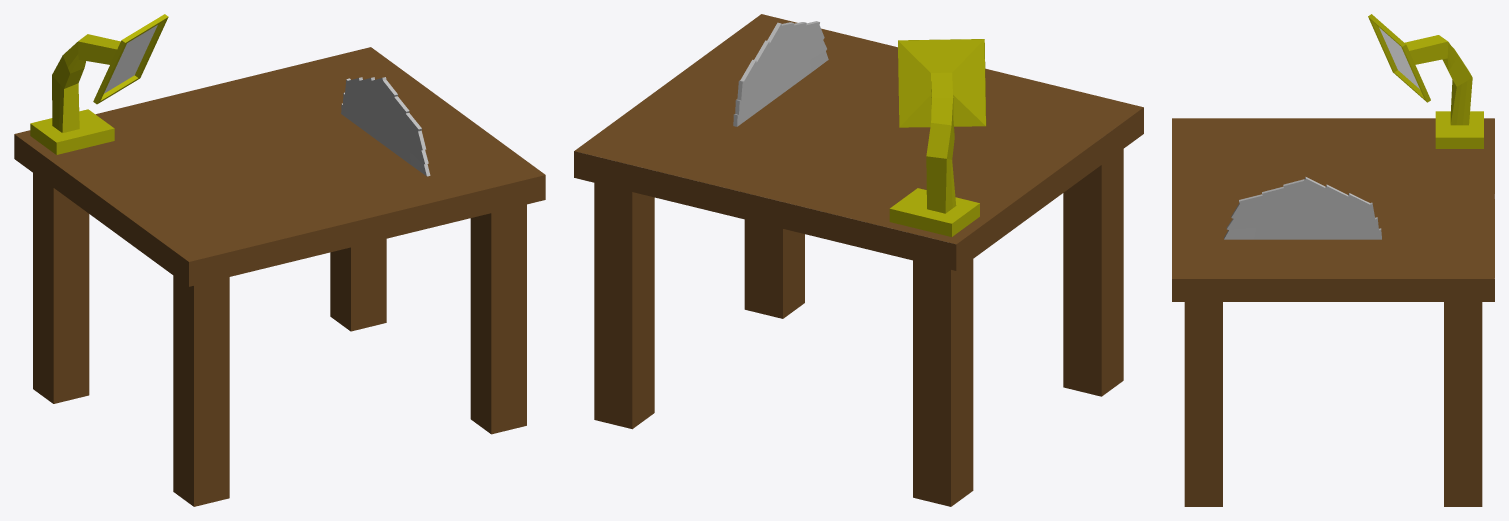
Rendered from WorkingTable.fbx.
The picture shows the model from 3 angles, left to right: view 1: azimuth 30°, elevation 25°; view 2: azimuth 150°, elevation 25°; view 3: azimuth 270°, elevation 25°; orthographic projection. The views are drawn at different scales.
Visible parts, largest first — view 1: Cube; view 2: Cube; view 3: Cube.
Boxes of the visible parts, x1=… form: Cube: x1=14, y1=14, x2=545, y2=506; Cube: x1=574, y1=14, x2=1143, y2=506; Cube: x1=1172, y1=14, x2=1494, y2=506.
Bounding box in the file's own units: 150 × 127 × 155.
